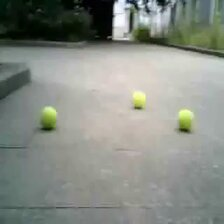tennis: (40, 106, 57, 128), (177, 110, 193, 130), (134, 91, 146, 109)
